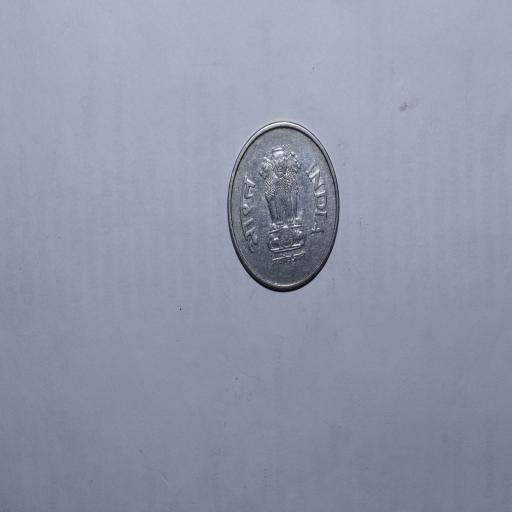rupee1: (223, 122, 340, 296)
